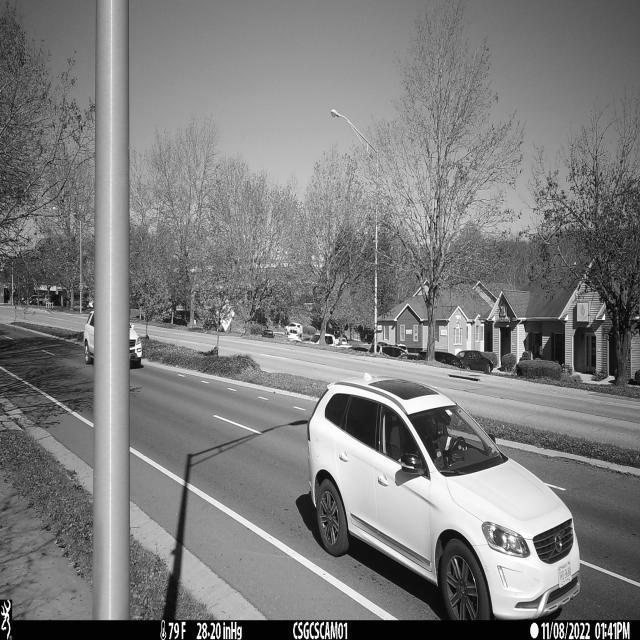SUV: (308, 373, 579, 621)
